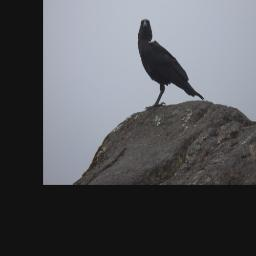Crow: (136, 18, 205, 109)
